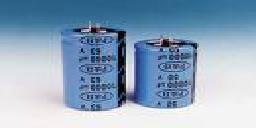Electrolytic-Capacitor: (60, 20, 127, 111), (132, 33, 200, 109)
